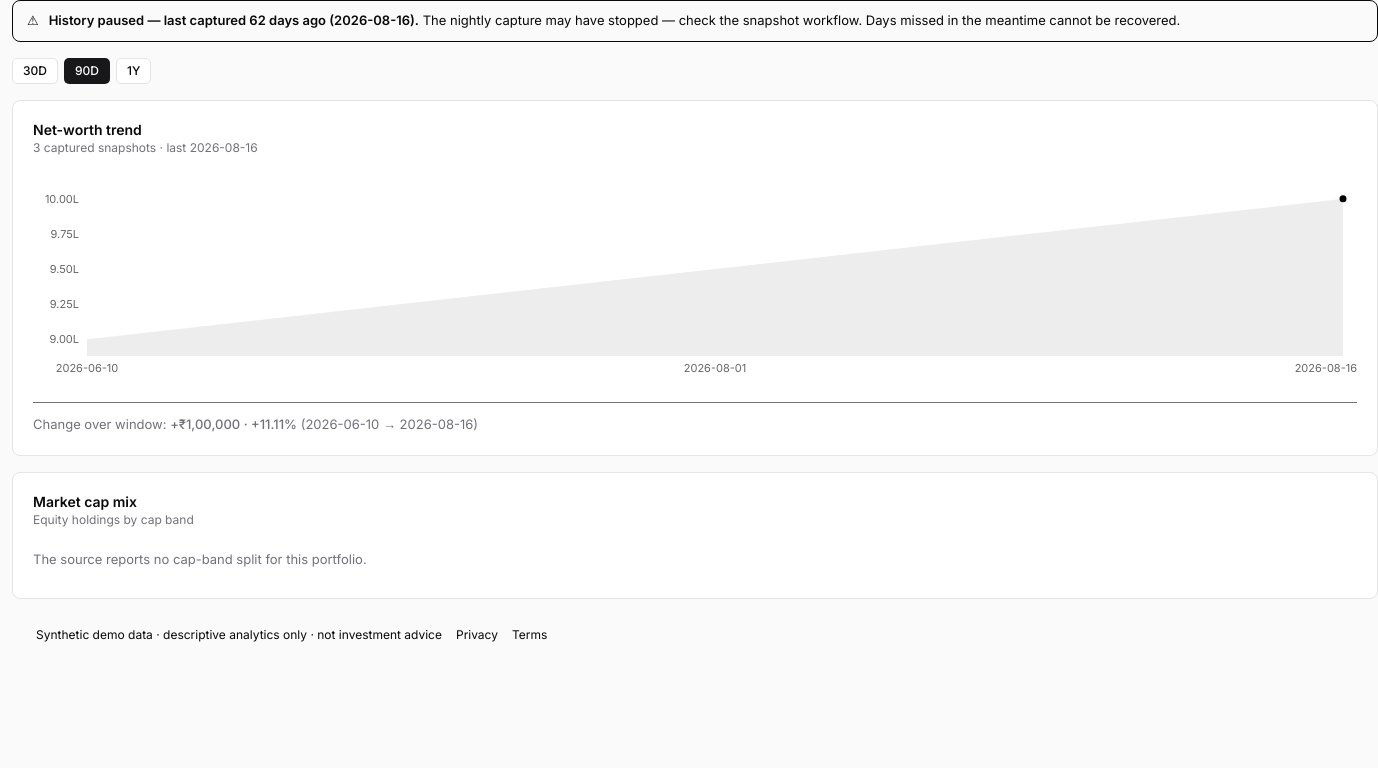
Test: performance windows › slices the fetched history and states the change over the chosen window
Expected: the button "90D" is shown, [64, 58, 110, 84]
Expected: the text "(2026-06-10 → 2026-08-16)" is shown, [301, 416, 478, 432]
Click the button "30D" at coordinates (35, 70), box [12, 58, 58, 84]
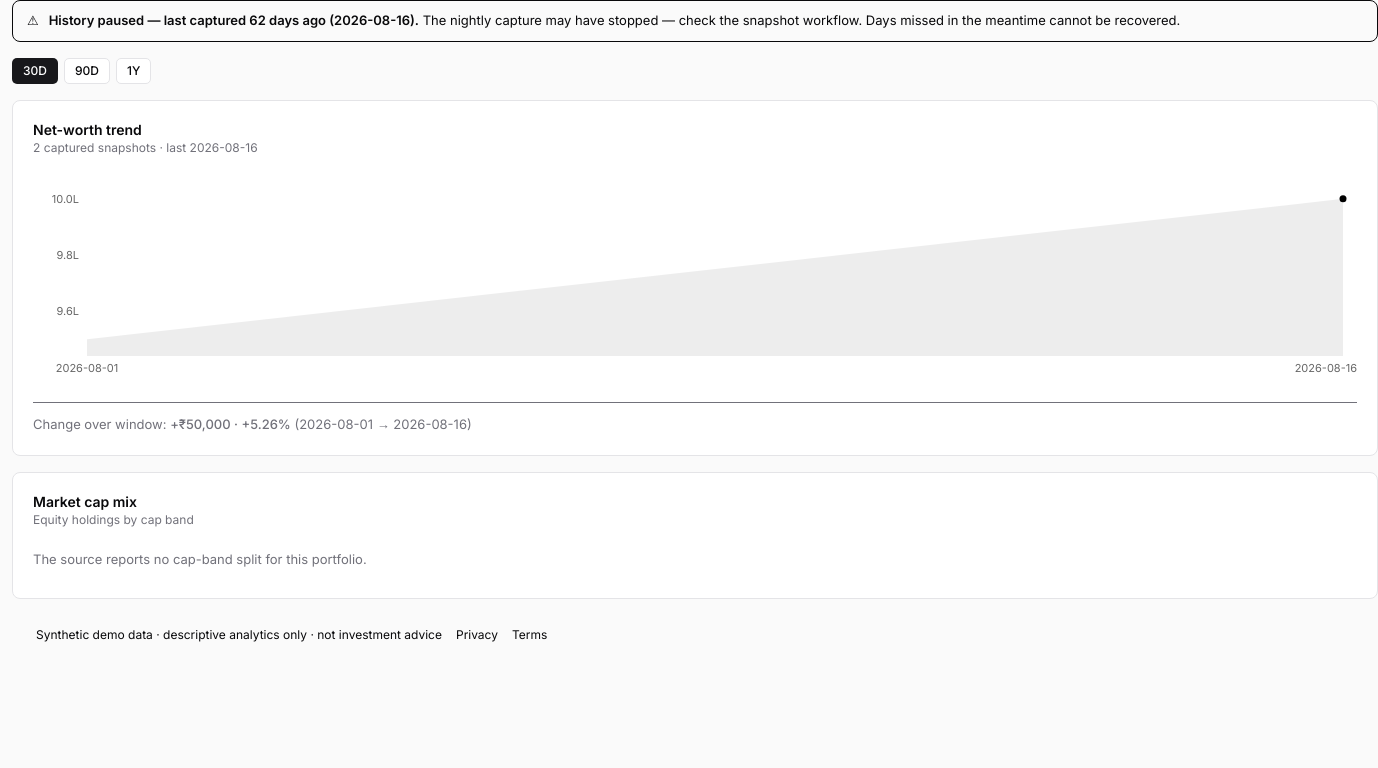
Now the text "(2026-08-01 → 2026-08-16)" is shown, box [294, 416, 472, 432]
Now the text "+₹50,000 · +5.26%" is shown, box [170, 416, 291, 432]
Click the button "1Y" at coordinates (134, 70), box [116, 58, 151, 84]
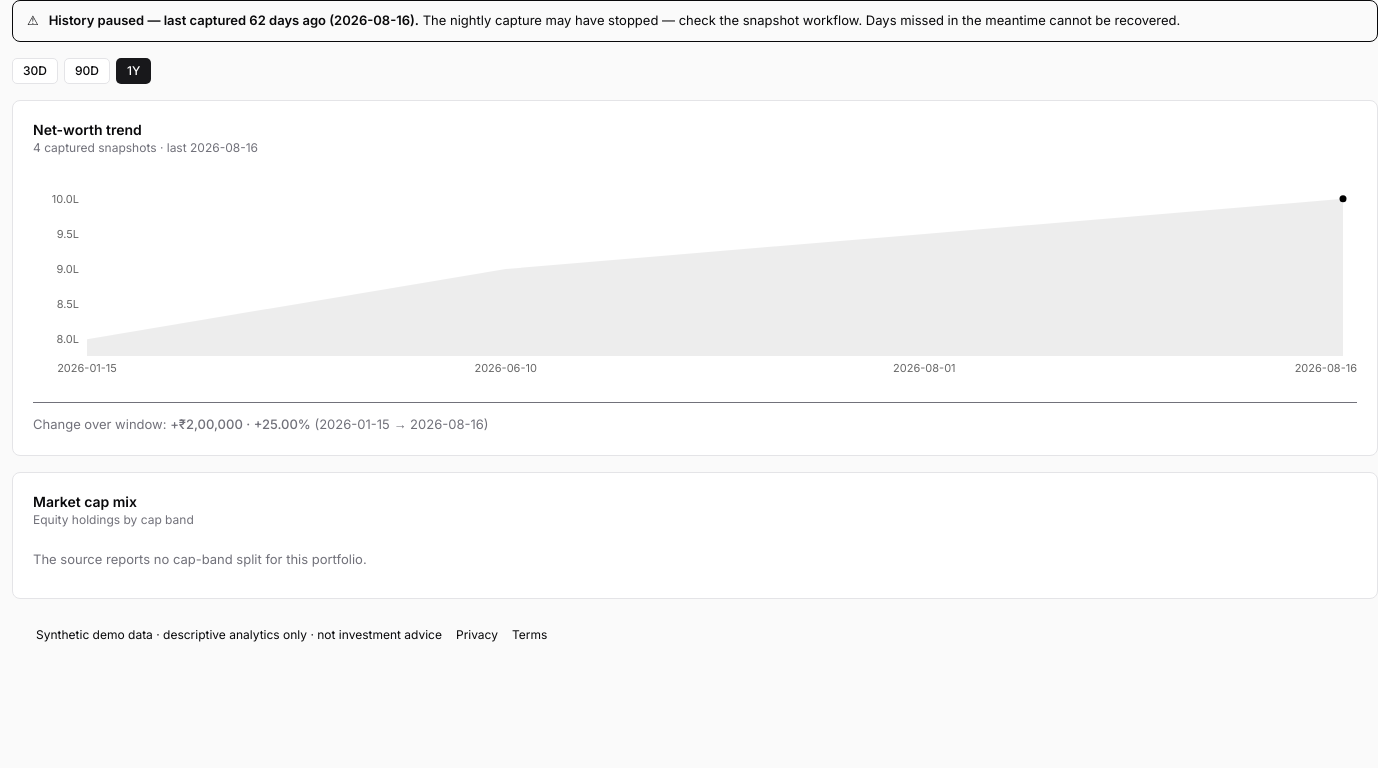
Now the text "(2026-01-15 → 2026-08-16)" is shown, box [314, 416, 488, 432]
Now the text "+₹2,00,000 · +25.00%" is shown, box [170, 416, 311, 432]
